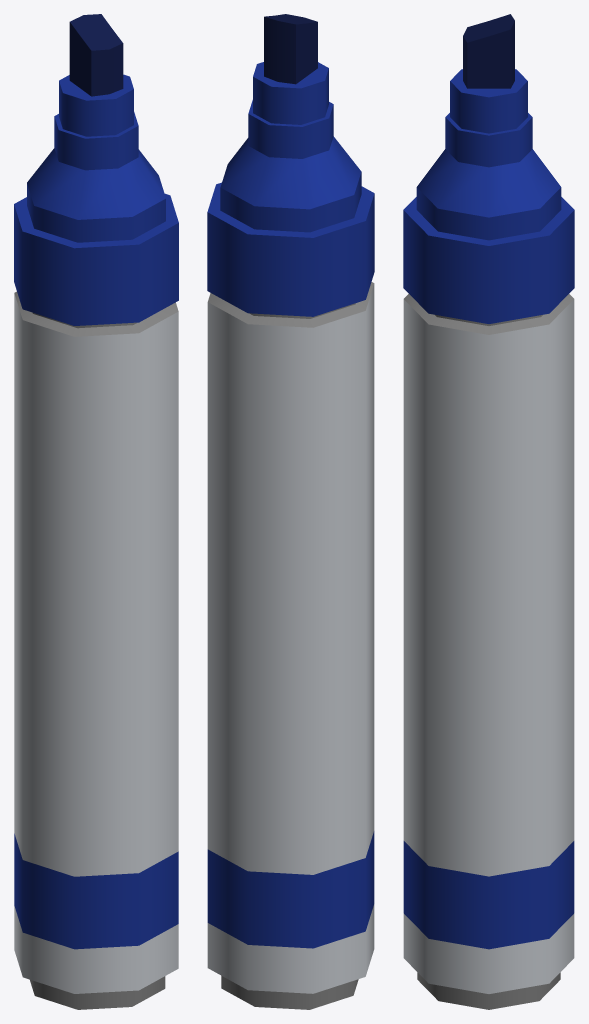
File: marker.fbx
3 views of the same model, side by side, from view 1: azimuth 30°, elevation 25°; view 2: azimuth 150°, elevation 25°; view 3: azimuth 270°, elevation 25° (orthographic).
Visible parts, largest first — view 1: marker; view 2: marker; view 3: marker.
Part boxes in pixels (box(x1,y1,x2,y2)): marker: box(14, 14, 178, 1009); marker: box(207, 14, 374, 1009); marker: box(403, 14, 574, 1009).
Bounding box in the file's own units: 0.0486 × 0.3005 × 0.0486.
